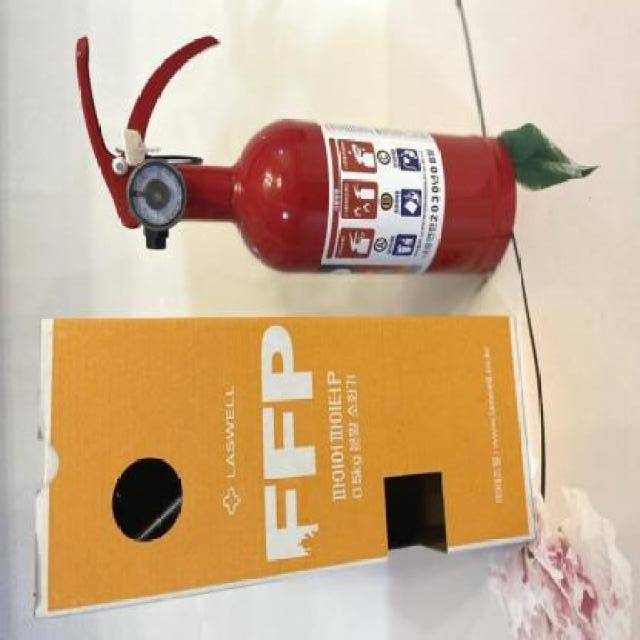fire extinguisher: (75, 35, 518, 276)
